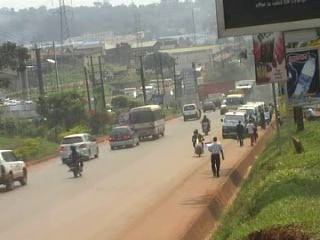Car: (56, 131, 104, 165), (0, 146, 34, 193), (104, 123, 145, 150), (198, 100, 217, 115)
Motorcycle: (64, 148, 86, 180), (188, 130, 205, 157), (199, 113, 212, 138)
